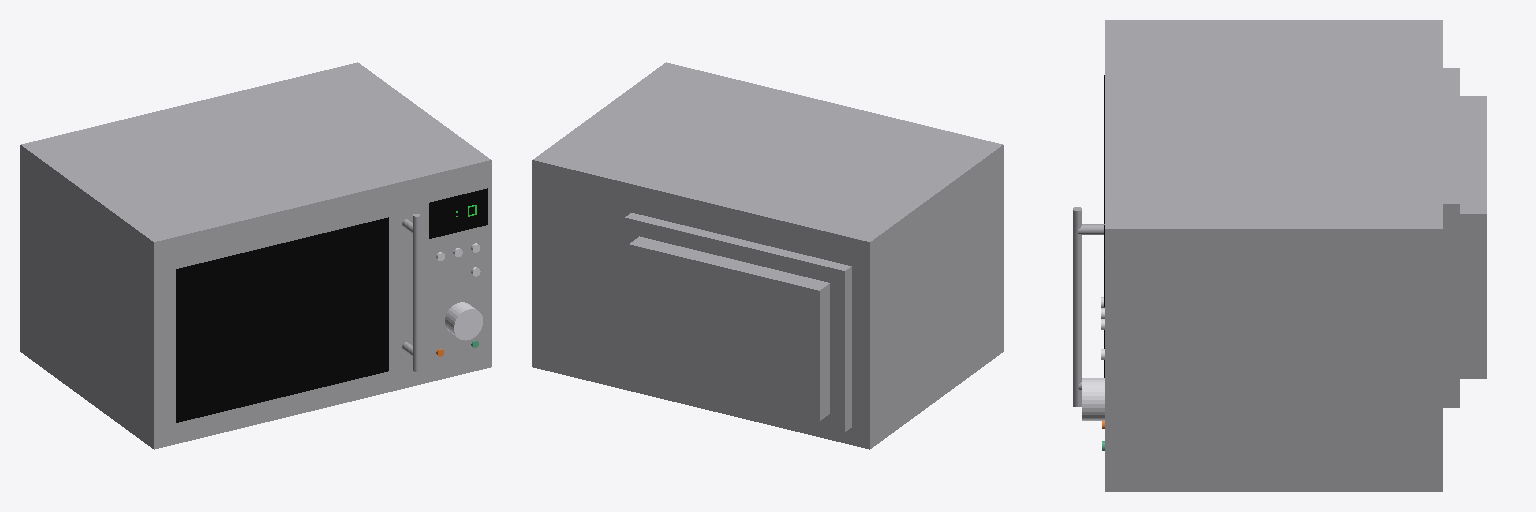
The robot description file, URDF, robot "microwave":
<?xml version="1.0"?>
<!-- generated by build_microwave.py; edit the parameters there, not this file -->
<robot name="microwave">
 <link name="body">
  <inertial><origin xyz="0.230 0.140 0.143"/><mass value="12"/>
   <inertia ixx="0.2" iyy="0.3" izz="0.3" ixy="0" ixz="0" iyz="0"/></inertial>
  <visual name="feet"><origin xyz="0.2300 0.1395 0.0040"/><geometry><box size="0.4200 0.2390 0.0080"/></geometry><material name="feet_m"><color rgba="0.08 0.08 0.09 1"/></material></visual>
  <collision name="feet"><origin xyz="0.2300 0.1395 0.0040"/><geometry><box size="0.4200 0.2390 0.0080"/></geometry></collision>
  <visual name="floor"><origin xyz="0.2300 0.1395 0.0220"/><geometry><box size="0.4600 0.2790 0.0280"/></geometry><material name="floor_m"><color rgba="0.72 0.72 0.74 1"/></material></visual>
  <collision name="floor"><origin xyz="0.2300 0.1395 0.0220"/><geometry><box size="0.4600 0.2790 0.0280"/></geometry></collision>
  <visual name="roof"><origin xyz="0.2300 0.1395 0.2570"/><geometry><box size="0.4600 0.2790 0.0420"/></geometry><material name="roof_m"><color rgba="0.72 0.72 0.74 1"/></material></visual>
  <collision name="roof"><origin xyz="0.2300 0.1395 0.2570"/><geometry><box size="0.4600 0.2790 0.0420"/></geometry></collision>
  <visual name="left_wall"><origin xyz="0.0150 0.1395 0.1360"/><geometry><box size="0.0300 0.2790 0.2000"/></geometry><material name="left_wall_m"><color rgba="0.72 0.72 0.74 1"/></material></visual>
  <collision name="left_wall"><origin xyz="0.0150 0.1395 0.1360"/><geometry><box size="0.0300 0.2790 0.2000"/></geometry></collision>
  <visual name="right_block"><origin xyz="0.3900 0.1395 0.1360"/><geometry><box size="0.1400 0.2790 0.2000"/></geometry><material name="right_block_m"><color rgba="0.72 0.72 0.74 1"/></material></visual>
  <collision name="right_block"><origin xyz="0.3900 0.1395 0.1360"/><geometry><box size="0.1400 0.2790 0.2000"/></geometry></collision>
  <visual name="bump_top"><origin xyz="0.1750 0.2870 0.2385"/><geometry><box size="0.3000 0.0160 0.0050"/></geometry><material name="bump_top_m"><color rgba="0.72 0.72 0.74 1"/></material></visual>
  <collision name="bump_top"><origin xyz="0.1750 0.2870 0.2385"/><geometry><box size="0.3000 0.0160 0.0050"/></geometry></collision>
  <visual name="bump_bottom"><origin xyz="0.1750 0.2870 0.0335"/><geometry><box size="0.3000 0.0160 0.0050"/></geometry><material name="bump_bottom_m"><color rgba="0.72 0.72 0.74 1"/></material></visual>
  <collision name="bump_bottom"><origin xyz="0.1750 0.2870 0.0335"/><geometry><box size="0.3000 0.0160 0.0050"/></geometry></collision>
  <visual name="bump_left"><origin xyz="0.0275 0.2870 0.1360"/><geometry><box size="0.0050 0.0160 0.2000"/></geometry><material name="bump_left_m"><color rgba="0.72 0.72 0.74 1"/></material></visual>
  <collision name="bump_left"><origin xyz="0.0275 0.2870 0.1360"/><geometry><box size="0.0050 0.0160 0.2000"/></geometry></collision>
  <visual name="bump_right"><origin xyz="0.3225 0.2870 0.1360"/><geometry><box size="0.0050 0.0160 0.2000"/></geometry><material name="bump_right_m"><color rgba="0.72 0.72 0.74 1"/></material></visual>
  <collision name="bump_right"><origin xyz="0.3225 0.2870 0.1360"/><geometry><box size="0.0050 0.0160 0.2000"/></geometry></collision>
  <visual name="bump_back_left"><origin xyz="0.0400 0.2925 0.1360"/><geometry><box size="0.0200 0.0050 0.2000"/></geometry><material name="bump_back_left_m"><color rgba="0.72 0.72 0.74 1"/></material></visual>
  <collision name="bump_back_left"><origin xyz="0.0400 0.2925 0.1360"/><geometry><box size="0.0200 0.0050 0.2000"/></geometry></collision>
  <visual name="bump_back_right"><origin xyz="0.3100 0.2925 0.1360"/><geometry><box size="0.0200 0.0050 0.2000"/></geometry><material name="bump_back_right_m"><color rgba="0.72 0.72 0.74 1"/></material></visual>
  <collision name="bump_back_right"><origin xyz="0.3100 0.2925 0.1360"/><geometry><box size="0.0200 0.0050 0.2000"/></geometry></collision>
  <visual name="bump_back_top"><origin xyz="0.1750 0.2925 0.2260"/><geometry><box size="0.2500 0.0050 0.0200"/></geometry><material name="bump_back_top_m"><color rgba="0.72 0.72 0.74 1"/></material></visual>
  <collision name="bump_back_top"><origin xyz="0.1750 0.2925 0.2260"/><geometry><box size="0.2500 0.0050 0.0200"/></geometry></collision>
  <visual name="bump_back_bottom"><origin xyz="0.1750 0.2925 0.0460"/><geometry><box size="0.2500 0.0050 0.0200"/></geometry><material name="bump_back_bottom_m"><color rgba="0.72 0.72 0.74 1"/></material></visual>
  <collision name="bump_back_bottom"><origin xyz="0.1750 0.2925 0.0460"/><geometry><box size="0.2500 0.0050 0.0200"/></geometry></collision>
  <visual name="recess_top"><origin xyz="0.1750 0.3075 0.2185"/><geometry><box size="0.2600 0.0250 0.0050"/></geometry><material name="recess_top_m"><color rgba="0.72 0.72 0.74 1"/></material></visual>
  <collision name="recess_top"><origin xyz="0.1750 0.3075 0.2185"/><geometry><box size="0.2600 0.0250 0.0050"/></geometry></collision>
  <visual name="recess_bottom"><origin xyz="0.1750 0.3075 0.0535"/><geometry><box size="0.2600 0.0250 0.0050"/></geometry><material name="recess_bottom_m"><color rgba="0.72 0.72 0.74 1"/></material></visual>
  <collision name="recess_bottom"><origin xyz="0.1750 0.3075 0.0535"/><geometry><box size="0.2600 0.0250 0.0050"/></geometry></collision>
  <visual name="recess_left"><origin xyz="0.0475 0.3075 0.1360"/><geometry><box size="0.0050 0.0250 0.1600"/></geometry><material name="recess_left_m"><color rgba="0.72 0.72 0.74 1"/></material></visual>
  <collision name="recess_left"><origin xyz="0.0475 0.3075 0.1360"/><geometry><box size="0.0050 0.0250 0.1600"/></geometry></collision>
  <visual name="recess_right"><origin xyz="0.3025 0.3075 0.1360"/><geometry><box size="0.0050 0.0250 0.1600"/></geometry><material name="recess_right_m"><color rgba="0.72 0.72 0.74 1"/></material></visual>
  <collision name="recess_right"><origin xyz="0.3025 0.3075 0.1360"/><geometry><box size="0.0050 0.0250 0.1600"/></geometry></collision>
  <visual name="recess_back"><origin xyz="0.1750 0.3175 0.1360"/><geometry><box size="0.2500 0.0050 0.1600"/></geometry><material name="recess_back_m"><color rgba="0.72 0.72 0.74 1"/></material></visual>
  <collision name="recess_back"><origin xyz="0.1750 0.3175 0.1360"/><geometry><box size="0.2500 0.0050 0.1600"/></geometry></collision>
  <visual name="turntable"><origin xyz="0.1750 0.1450 0.0385" rpy="0 0 0"/><geometry><cylinder radius="0.1225" length="0.0050"/></geometry><material name="turntable_m"><color rgba="0.85 0.9 0.92 1"/></material></visual>
  <collision name="turntable"><origin xyz="0.1750 0.1450 0.0385" rpy="0 0 0"/><geometry><cylinder radius="0.1225" length="0.0050"/></geometry></collision>
  <visual name="control_panel"><origin xyz="0.4080 -0.0180 0.1430"/><geometry><box size="0.1040 0.0360 0.2700"/></geometry><material name="control_panel_m"><color rgba="0.72 0.72 0.74 1"/></material></visual>
  <collision name="control_panel"><origin xyz="0.4080 -0.0180 0.1430"/><geometry><box size="0.1040 0.0360 0.2700"/></geometry></collision>
  <visual name="display"><origin xyz="0.4147 -0.0365 0.2187"/><geometry><box size="0.0801 0.0010 0.0472"/></geometry><material name="display_m"><color rgba="0.08 0.08 0.09 1"/></material></visual>
  <visual name="digit_0_0"><origin xyz="0.4330 -0.0372 0.2130"/><geometry><box size="0.0114 0.0008 0.0015"/></geometry><material name="digit_0_0_m"><color rgba="0.25 0.95 0.35 1"/></material></visual>
  <visual name="digit_0_1"><origin xyz="0.4330 -0.0372 0.2246"/><geometry><box size="0.0114 0.0008 0.0015"/></geometry><material name="digit_0_1_m"><color rgba="0.25 0.95 0.35 1"/></material></visual>
  <visual name="digit_0_2"><origin xyz="0.4281 -0.0372 0.2188"/><geometry><box size="0.0015 0.0008 0.0131"/></geometry><material name="digit_0_2_m"><color rgba="0.25 0.95 0.35 1"/></material></visual>
  <visual name="digit_0_3"><origin xyz="0.4379 -0.0372 0.2188"/><geometry><box size="0.0015 0.0008 0.0131"/></geometry><material name="digit_0_3_m"><color rgba="0.25 0.95 0.35 1"/></material></visual>
  <visual name="colon_0"><origin xyz="0.4121 -0.0372 0.2161"/><geometry><box size="0.0016 0.0008 0.0016"/></geometry><material name="colon_0_m"><color rgba="0.25 0.95 0.35 1"/></material></visual>
  <visual name="colon_1"><origin xyz="0.4121 -0.0372 0.2219"/><geometry><box size="0.0016 0.0008 0.0016"/></geometry><material name="colon_1_m"><color rgba="0.25 0.95 0.35 1"/></material></visual>
  <visual name="button_0"><origin xyz="0.3895 -0.0380 0.1693" rpy="1.5708 0 0"/><geometry><cylinder radius="0.0053" length="0.0040"/></geometry><material name="button_0_m"><color rgba="0.88 0.88 0.9 1"/></material></visual>
  <collision name="button_0"><origin xyz="0.3895 -0.0380 0.1693" rpy="1.5708 0 0"/><geometry><cylinder radius="0.0053" length="0.0040"/></geometry></collision>
  <visual name="button_1"><origin xyz="0.4134 -0.0380 0.1691" rpy="1.5708 0 0"/><geometry><cylinder radius="0.0053" length="0.0040"/></geometry><material name="button_1_m"><color rgba="0.88 0.88 0.9 1"/></material></visual>
  <collision name="button_1"><origin xyz="0.4134 -0.0380 0.1691" rpy="1.5708 0 0"/><geometry><cylinder radius="0.0053" length="0.0040"/></geometry></collision>
  <visual name="button_2"><origin xyz="0.4374 -0.0380 0.1693" rpy="1.5708 0 0"/><geometry><cylinder radius="0.0053" length="0.0040"/></geometry><material name="button_2_m"><color rgba="0.88 0.88 0.9 1"/></material></visual>
  <collision name="button_2"><origin xyz="0.4374 -0.0380 0.1693" rpy="1.5708 0 0"/><geometry><cylinder radius="0.0053" length="0.0040"/></geometry></collision>
  <visual name="button_3"><origin xyz="0.4374 -0.0380 0.1384" rpy="1.5708 0 0"/><geometry><cylinder radius="0.0053" length="0.0040"/></geometry><material name="button_3_m"><color rgba="0.88 0.88 0.9 1"/></material></visual>
  <collision name="button_3"><origin xyz="0.4374 -0.0380 0.1384" rpy="1.5708 0 0"/><geometry><cylinder radius="0.0053" length="0.0040"/></geometry></collision>
  <visual name="knob"><origin xyz="0.4162 -0.0470 0.0825" rpy="1.5708 0 0"/><geometry><cylinder radius="0.0200" length="0.0220"/></geometry><material name="knob_m"><color rgba="0.88 0.88 0.9 1"/></material></visual>
  <collision name="knob"><origin xyz="0.4162 -0.0470 0.0825" rpy="1.5708 0 0"/><geometry><cylinder radius="0.0200" length="0.0220"/></geometry></collision>
  <visual name="start_stop_0"><origin xyz="0.3894 -0.0375 0.0440" rpy="1.5708 0 0"/><geometry><cylinder radius="0.0045" length="0.0030"/></geometry><material name="start_stop_0_m"><color rgba="0.95 0.55 0.25 1"/></material></visual>
  <collision name="start_stop_0"><origin xyz="0.3894 -0.0375 0.0440" rpy="1.5708 0 0"/><geometry><cylinder radius="0.0045" length="0.0030"/></geometry></collision>
  <visual name="start_stop_1"><origin xyz="0.4370 -0.0375 0.0440" rpy="1.5708 0 0"/><geometry><cylinder radius="0.0045" length="0.0030"/></geometry><material name="start_stop_1_m"><color rgba="0.40 0.72 0.58 1"/></material></visual>
  <collision name="start_stop_1"><origin xyz="0.4370 -0.0375 0.0440" rpy="1.5708 0 0"/><geometry><cylinder radius="0.0045" length="0.0030"/></geometry></collision>
 </link>
 <link name="door">
  <inertial><origin xyz="0.1780 -0.0180 0.1430"/><mass value="1.0"/>
   <inertia ixx="0.00618" iyy="0.01664" izz="0.01067" ixy="0" ixz="0" iyz="0"/></inertial>
  <visual name="door_panel"><origin xyz="0.1780 -0.0180 0.1430"/><geometry><box size="0.3560 0.0360 0.2700"/></geometry><material name="door_panel_m"><color rgba="0.72 0.72 0.74 1"/></material></visual>
  <collision name="door_panel"><origin xyz="0.1780 -0.0180 0.1430"/><geometry><box size="0.3560 0.0360 0.2700"/></geometry></collision>
  <visual name="door_window"><origin xyz="0.1750 -0.0365 0.1360"/><geometry><box size="0.2900 0.0010 0.2000"/></geometry><material name="door_window_m"><color rgba="0.08 0.08 0.09 1"/></material></visual>
  <visual name="handle_bar"><origin xyz="0.3430 -0.0620 0.1430" rpy="0 0 0"/><geometry><cylinder radius="0.0045" length="0.2020"/></geometry><material name="handle_bar_m"><color rgba="0.72 0.72 0.74 1"/></material></visual>
  <collision name="handle_bar"><origin xyz="0.3430 -0.0620 0.1430" rpy="0 0 0"/><geometry><cylinder radius="0.0045" length="0.2020"/></geometry></collision>
  <visual name="handle_post_top"><origin xyz="0.3430 -0.0490 0.2230" rpy="1.5708 0 0"/><geometry><cylinder radius="0.0050" length="0.0260"/></geometry><material name="handle_post_top_m"><color rgba="0.72 0.72 0.74 1"/></material></visual>
  <collision name="handle_post_top"><origin xyz="0.3430 -0.0490 0.2230" rpy="1.5708 0 0"/><geometry><cylinder radius="0.0050" length="0.0260"/></geometry></collision>
  <visual name="handle_post_bottom"><origin xyz="0.3430 -0.0490 0.0630" rpy="1.5708 0 0"/><geometry><cylinder radius="0.0050" length="0.0260"/></geometry><material name="handle_post_bottom_m"><color rgba="0.72 0.72 0.74 1"/></material></visual>
  <collision name="handle_post_bottom"><origin xyz="0.3430 -0.0490 0.0630" rpy="1.5708 0 0"/><geometry><cylinder radius="0.0050" length="0.0260"/></geometry></collision>
 </link>
 <joint name="door_hinge" type="revolute">
  <parent link="body"/><child link="door"/>
  <origin xyz="0 0 0"/><axis xyz="0 0 -1"/>
  <limit lower="0" upper="1.750" effort="50" velocity="3"/>
  <dynamics damping="0.05" friction="0.05"/>
 </joint>
</robot>

--- Facts derived from the render (not from the file) ---
The picture shows the robot from 3 angles, left to right: view 1: azimuth 30°, elevation 25°; view 2: azimuth 150°, elevation 25°; view 3: azimuth 270°, elevation 25°; orthographic projection.
Model microwave with 2 links and 1 joints (1 revolute), rooted at body, posed every joint at zero.
Links seen in each view (by area): view 1: body, door; view 2: body, door; view 3: body, door.
Boxes of the visible links, bbox=[...] form: body: bbox=[20, 62, 491, 437]; door: bbox=[139, 168, 419, 449]; body: bbox=[532, 62, 987, 449]; door: bbox=[728, 81, 1003, 362]; body: bbox=[1082, 20, 1486, 491]; door: bbox=[1073, 20, 1143, 406].
Bounding box of the posed robot: 0.46 × 0.3865 × 0.278 m (x, y, z).
Geometry: primitives only (box / cylinder / sphere), no mesh files.
